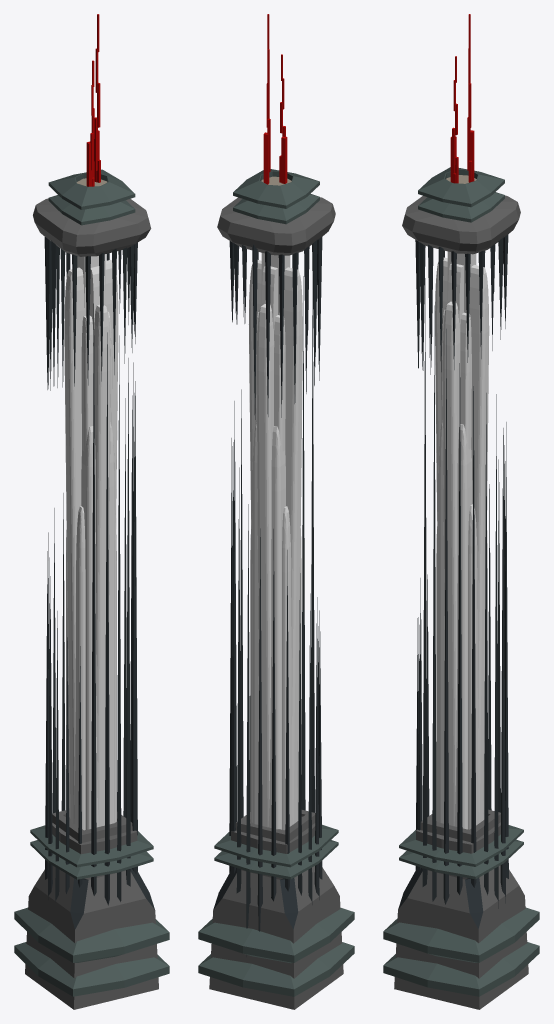
Rendered from building_43.fbx.
The picture shows the model from 3 angles, left to right: view 1: azimuth 30°, elevation 25°; view 2: azimuth 150°, elevation 25°; view 3: azimuth 330°, elevation 25°; orthographic projection.
Visible parts, largest first — view 1: building_43; view 2: building_43; view 3: building_43.
Part boxes in pixels (x1=…): building_43: x1=14, y1=14, x2=169, y2=1009; building_43: x1=198, y1=14, x2=354, y2=1009; building_43: x1=383, y1=14, x2=539, y2=1009.
Size of the model in its own units: 804 by 6920 by 862.
